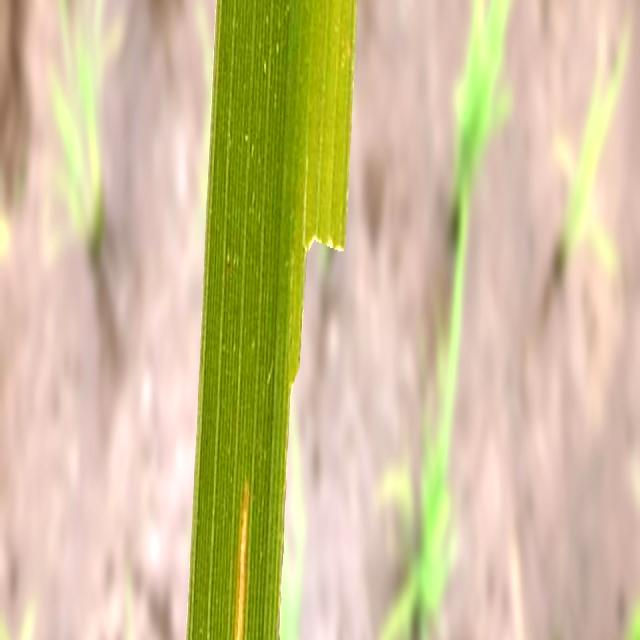BLS: (233, 483, 249, 640)
